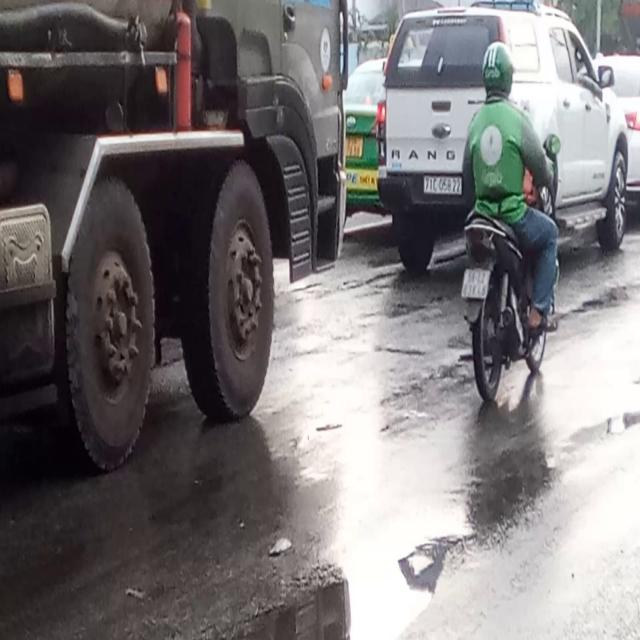bien_trang: (425, 174, 461, 197)
